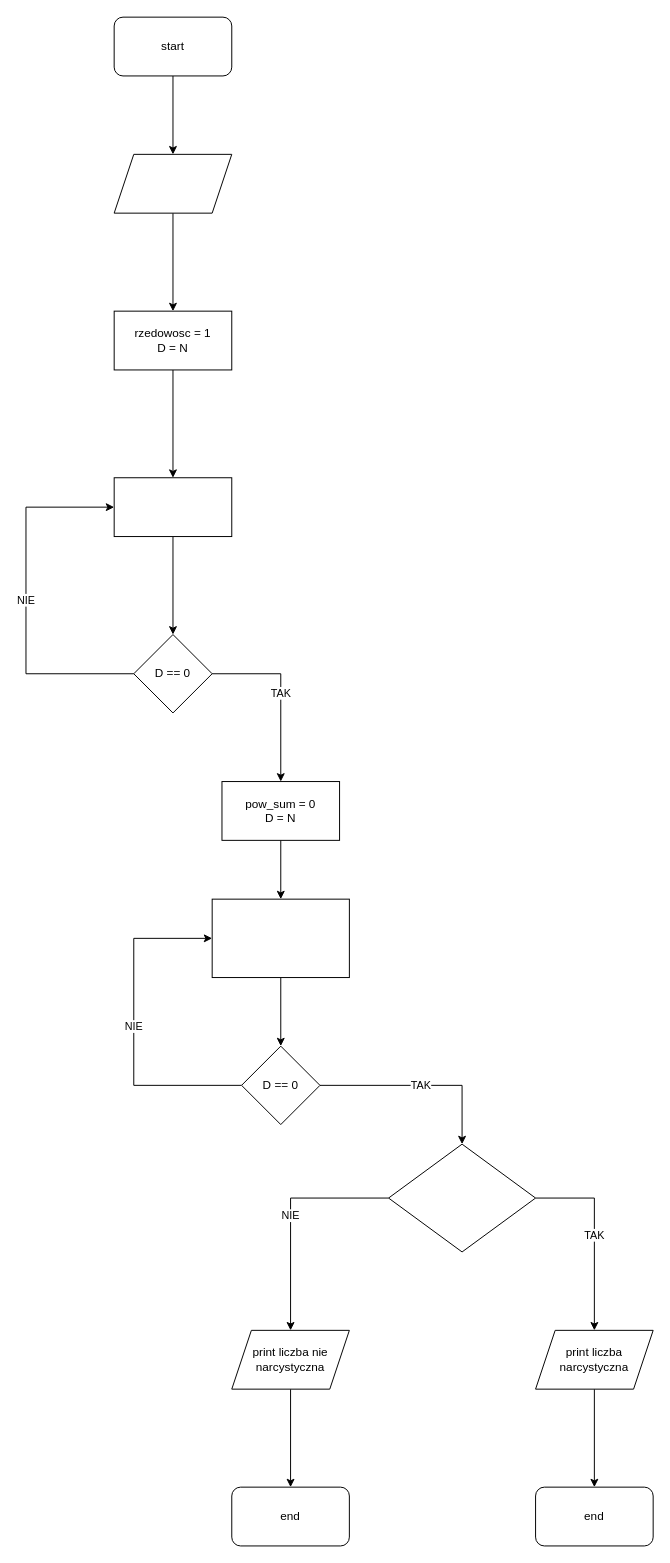
The diagram is 670 pixels wide and 1563 high, and some of its shapes have lost their labels. Here are the shapes that lost their labels. From the top down, the centre of each, then its label:
At (x=172, y=183): "wpisz N".
At (x=172, y=507): "R = D mod 10 D = D div 10 rzedowosc += 1".
At (x=280, y=938): "R = D mod 10 D = D div 10 pow_sum += R do potęgi <rzedowosc>".
At (x=462, y=1197): "pow_sum == N".
